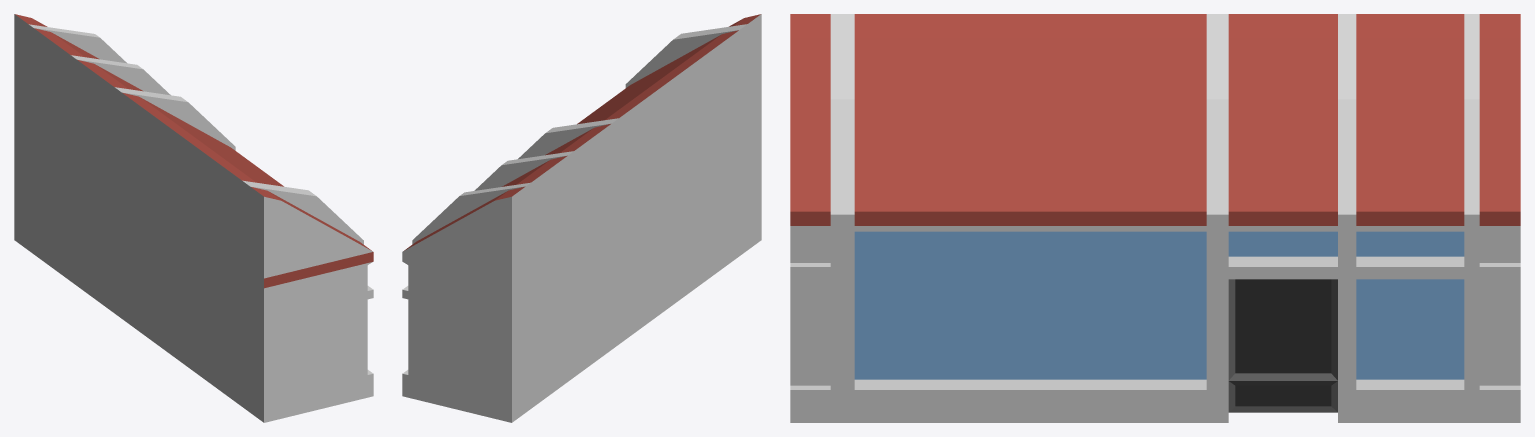
The model's file is StoreFrontPlot.fbx.
The picture shows the model from 3 angles, left to right: view 1: azimuth 30°, elevation 25°; view 2: azimuth 150°, elevation 25°; view 3: azimuth 270°, elevation 25°; orthographic projection. The views are drawn at different scales.
Parts seen in each view (by area): view 1: Cube; view 2: Cube; view 3: Cube.
Part boxes in pixels (box(x1,y1,x2,y2)): Cube: box(14, 14, 373, 422); Cube: box(402, 14, 761, 422); Cube: box(790, 14, 1520, 422).
Size of the model in its own units: 105 by 200 by 400.
